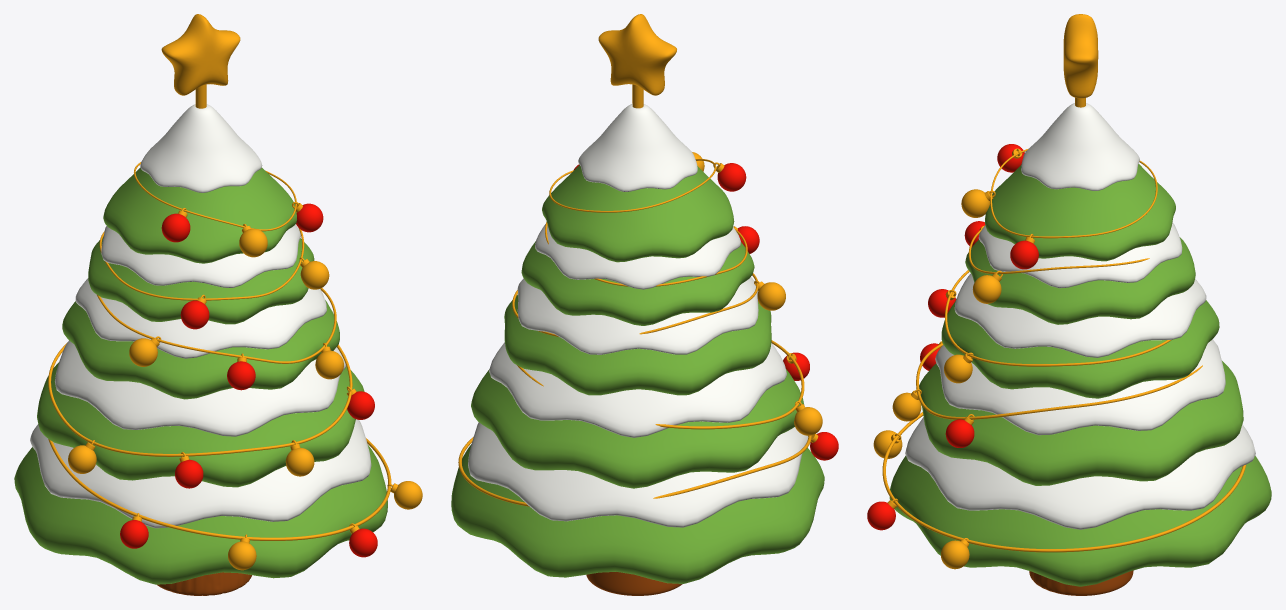
File: Tree3.fbx
3 views of the same model, side by side, from view 1: azimuth 30°, elevation 25°; view 2: azimuth 150°, elevation 25°; view 3: azimuth 270°, elevation 25° (orthographic).
Visible parts, largest first — view 1: Circle, Circle.001, Circle.022, Circle.004, Circle.023, Circle.002, Circle.024, Circle.003, Circle.026, Circle.025, Star, BézierCircle (+21 smaller); view 2: Circle, Circle.001, Circle.022, Circle.004, Circle.023, Circle.002, Circle.003, Circle.024, Circle.026, Circle.025, Star, Cylinder (+8 smaller); view 3: Circle, Circle.001, Circle.022, Circle.004, Circle.002, Circle.023, Circle.024, Circle.003, Circle.026, Circle.025, Star, BézierCircle (+14 smaller).
Boxes of the visible parts, x1,y1,x2,y2 form: Circle: (14,444,387,584); Circle.001: (37,362,364,487); Circle.022: (30,419,371,528); Circle.004: (103,167,296,263); Circle.023: (55,340,346,436); Circle.002: (62,300,339,399); Circle.024: (75,278,326,358); Circle.003: (88,237,314,324); Circle.026: (140,104,262,192); Circle.025: (101,225,300,287); Star: (161,14,240,95); BézierCircle: (48,438,391,540); Circle: (451,444,824,583); Circle.001: (471,369,804,488); Circle.022: (468,422,808,527); Circle.004: (542,165,734,262); Circle.023: (489,342,786,437); Circle.002: (504,294,771,395); Circle.003: (521,241,754,325); Circle.024: (517,277,758,354); Circle.026: (578,104,697,191); Circle.025: (535,224,740,289); Star: (598,14,676,95); Cylinder: (586,572,682,595); Circle: (889,455,1271,586); Circle.001: (919,361,1243,485); Circle.022: (905,417,1255,529); Circle.004: (985,164,1175,261); Circle.002: (941,298,1219,398); Circle.023: (935,339,1225,435); Circle.024: (954,273,1206,357); Circle.003: (965,237,1195,324); Circle.026: (1021,103,1139,190); Circle.025: (978,222,1182,288); Star: (1063,14,1098,98); BézierCircle: (882,412,1246,552).
Size of the model in its own units: 192 by 311 by 203.
